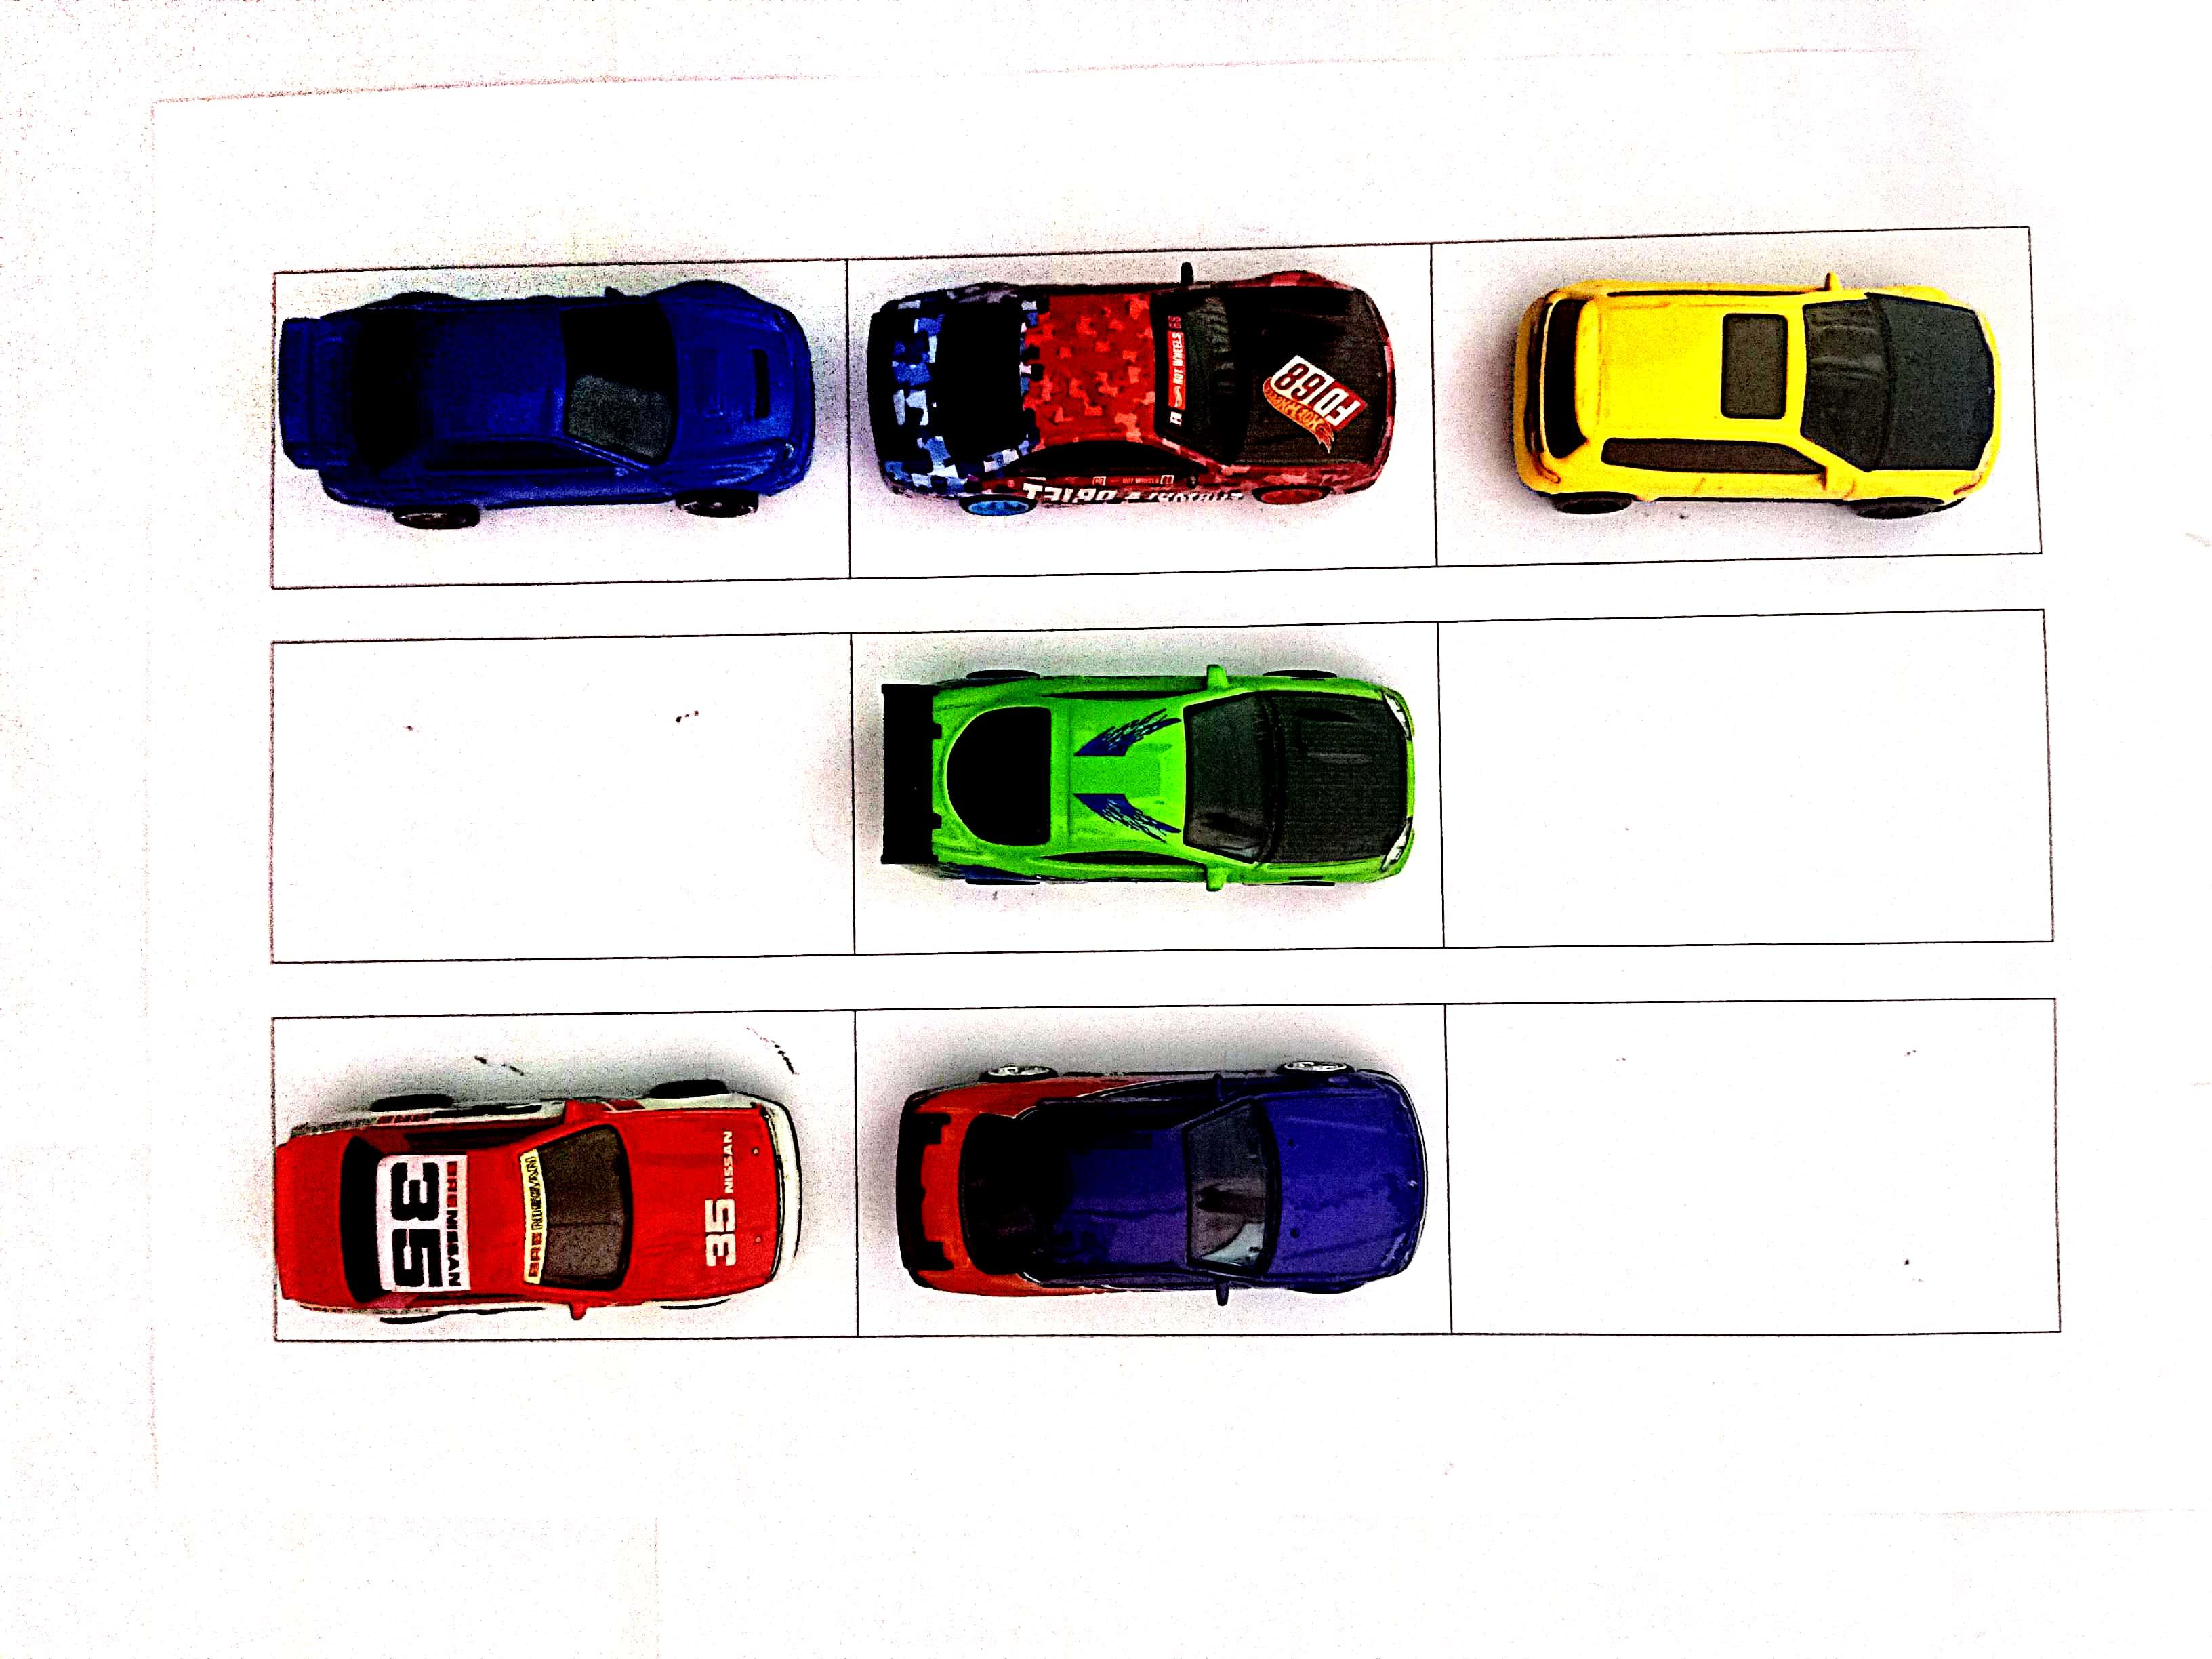Busy: (1428, 228, 2027, 561), (857, 1000, 1453, 1333), (848, 620, 1447, 943), (272, 1014, 853, 1345), (852, 249, 1426, 572), (277, 260, 848, 580)
Free: (1446, 606, 2050, 943), (1447, 1004, 2052, 1333), (272, 629, 846, 957)
